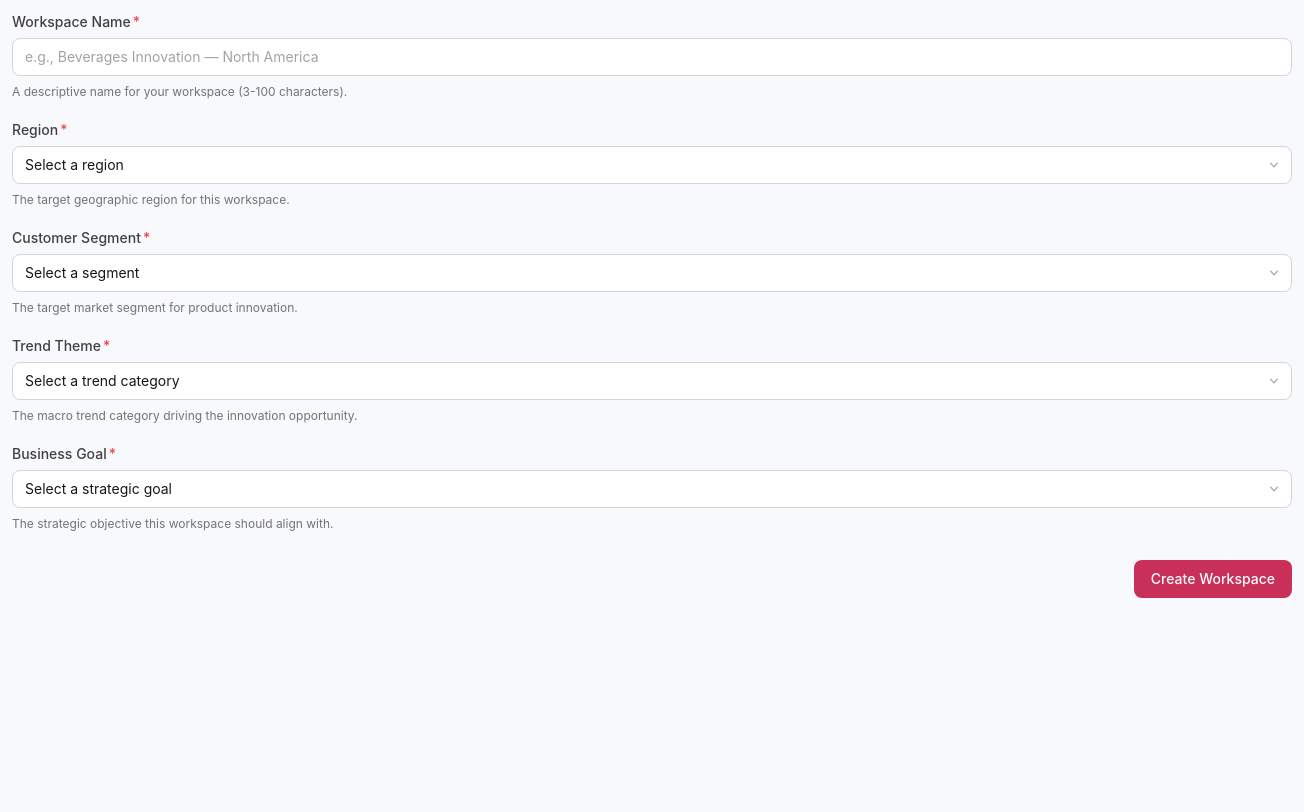
Test: WorkspaceForm › field validation › shows error when workspace name is empty on blur
Click the field labelled "Workspace Name*" at (652, 57), box [12,38,1292,76]
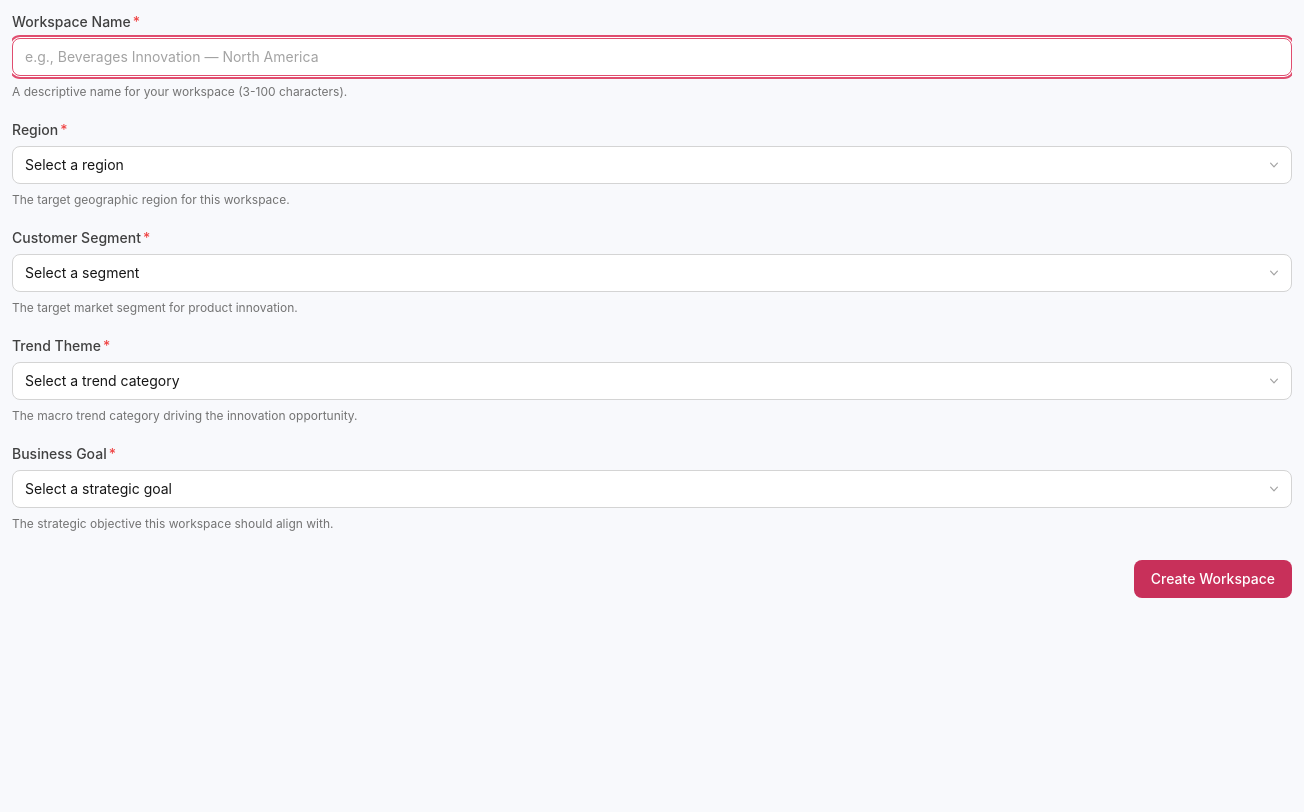
Press Tab
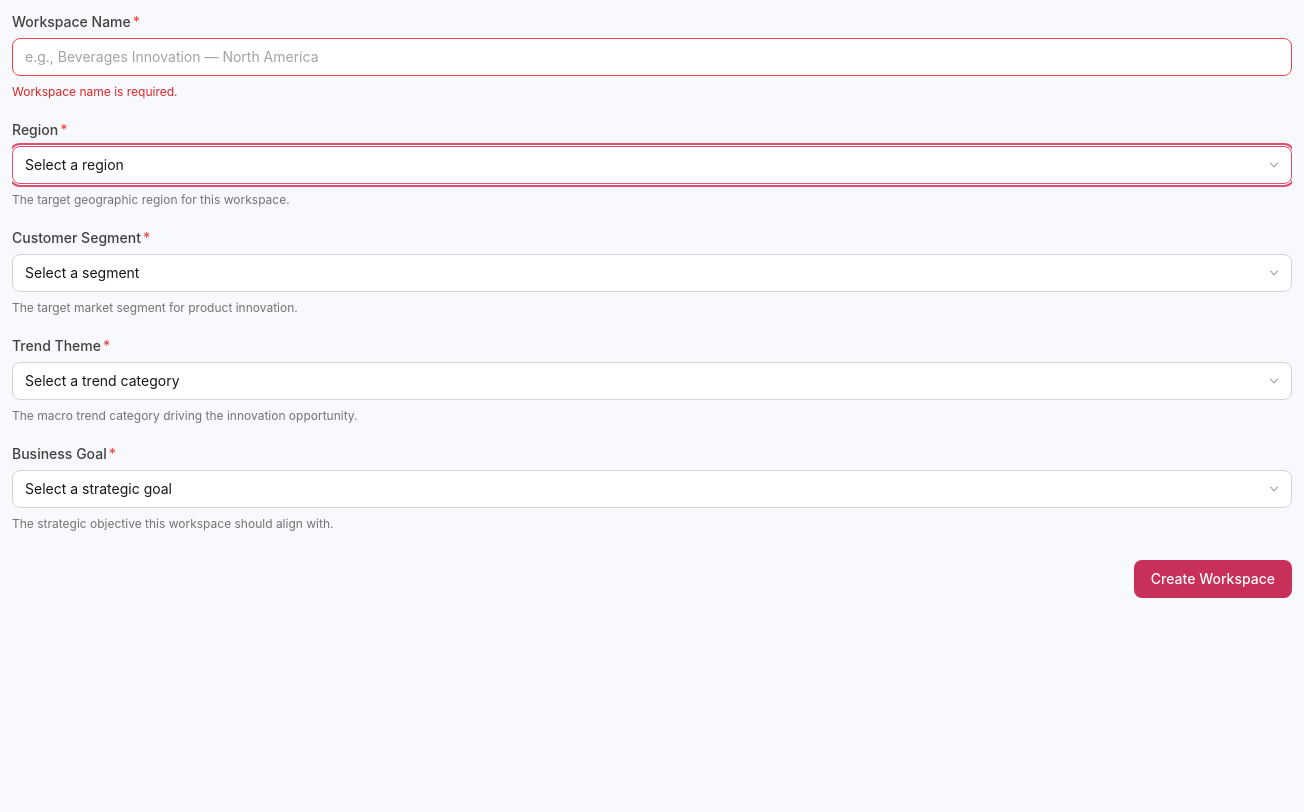
Check: the text "Workspace name is required." is shown, box [12,84,178,99]
